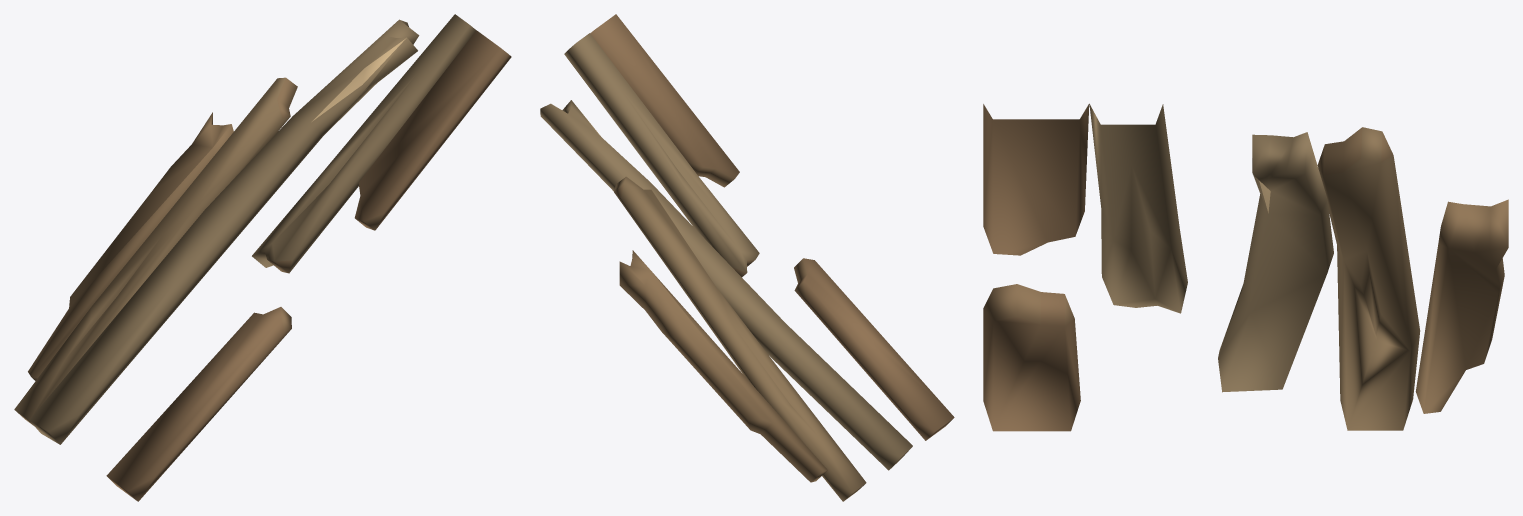
File: rpgpp_av_roof_02_6x3x3_half_c.gltf
3 views of the same model, side by side, from view 1: azimuth 30°, elevation 25°; view 2: azimuth 150°, elevation 25°; view 3: azimuth 270°, elevation 25° (orthographic). The views are drawn at different scales.
Parts seen in each view (by area): view 1: rpgpp_av_roof_02_6x3x3_half_c; view 2: rpgpp_av_roof_02_6x3x3_half_c; view 3: rpgpp_av_roof_02_6x3x3_half_c.
Boxes of the visible parts, left/top/right/bottom form: rpgpp_av_roof_02_6x3x3_half_c: left=14, top=14, right=511, bottom=501; rpgpp_av_roof_02_6x3x3_half_c: left=540, top=14, right=954, bottom=501; rpgpp_av_roof_02_6x3x3_half_c: left=983, top=103, right=1508, bottom=431.
Bounding box in the file's own units: 0.0433 × 0.0375 × 0.0268.
Materials: 1 (1 with a texture image).
